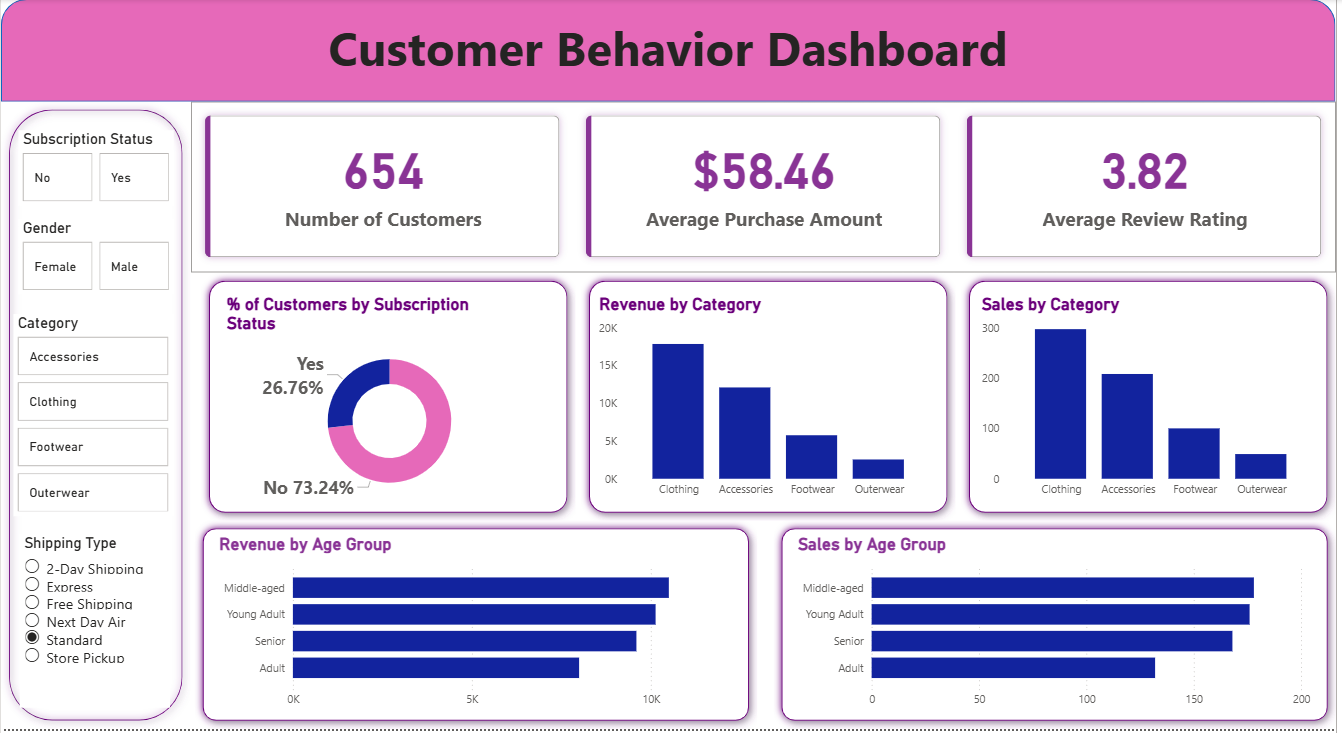

Layout of this report page (visuals, bound fields, positions):
{"tool":"powerbi","page":{"name":"Page 1","canvas":[1500,820],"ordinal":0},"visuals":[{"type":"cardVisual","fields":{"Data":["public customer.Number of Customers","public customer.Average Purchase Amount","public customer.Average Review Rating"]},"box":[212.9,115.3,1286.5,191.6],"z":2000},{"type":"shape","box":[218.3,585.6,631.7,234.2],"z":2500,"group":"g1"},{"type":"shape","box":[0,0,1499.4,115.3],"z":3000},{"type":"textbox","box":[0,12.4,1499.4,102.9],"z":4000},{"type":"shape","box":[225.4,307,420.5,278.6],"z":5000},{"type":"donutChart","title":"% of Customers by Subscription Status","fields":{"Category":["public customer.subscription_status"],"Y":["CountNonNull(public customer.customer_id)"]},"box":[248.4,331.8,376.2,237.8],"z":6000},{"type":"shape","box":[1078.9,307,420.5,278.6],"z":7000},{"type":"shape","box":[652.1,307,420.5,278.6],"z":8000},{"type":"clusteredColumnChart","title":"Revenue by Category","fields":{"Y":["Sum(public customer.purchase_amount)"],"Category":["public customer.category"]},"box":[667.2,331.8,385.1,237.8],"z":9000},{"type":"clusteredColumnChart","title":"Sales by Category","fields":{"Y":["CountNonNull(public customer.customer_id)"],"Category":["public customer.category"]},"box":[1096.6,331.8,385.1,237.8],"z":10000},{"type":"shape","box":[0,115.3,212.9,704.5],"z":11000},{"type":"advancedSlicerVisual","fields":{"Values":["public customer.subscription_status"]},"box":[19.5,147.6,174.1,85],"z":12000},{"type":"advancedSlicerVisual","fields":{"Values":["public customer.gender"]},"box":[19.5,246.5,174.1,85],"z":13000},{"type":"advancedSlicerVisual","fields":{"Values":["public customer.category"]},"box":[13.9,353.7,179.7,227],"z":14000},{"type":"listSlicer","fields":{"Values":["public customer.shipping_type"]},"box":[20.9,601.6,168.5,195],"z":15000},{"type":"shape","box":[867.7,585.6,631.7,234.2],"z":16000},{"type":"clusteredBarChart","title":"Sales by Age Group","fields":{"Y":["CountNonNull(public customer.customer_id)"],"Category":["public customer.age_group"]},"box":[890.8,601.5,585.6,204.1],"z":17000},{"type":"clusteredBarChart","title":"Revenue by Age Group","fields":{"Y":["Sum(public customer.purchase_amount)"],"Category":["public customer.age_group"]},"box":[241.4,601.6,585.6,204.1],"z":17500,"group":"g1"},{"type":"group","id":"g1","title":"Group 1","box":[218.3,585.6,631.7,234.2],"z":17501}]}

Visuals, with their boxes in screenshot pixels (x1, y1, x2, y2), scaled from the page's 1500x820 canvas onto the 1342x733 screenshot:
cardVisual - public customer.Number of Customers x public customer.Average Purchase Amount: <box>190,103,1341,274</box>
shape: <box>195,523,760,732</box>
shape: <box>0,0,1341,103</box>
textbox: <box>0,11,1341,103</box>
shape: <box>202,274,578,523</box>
"% of Customers by Subscription Status" donutChart: <box>222,297,559,509</box>
shape: <box>965,274,1341,523</box>
shape: <box>583,274,960,523</box>
"Revenue by Category" clusteredColumnChart: <box>597,297,941,509</box>
"Sales by Category" clusteredColumnChart: <box>981,297,1326,509</box>
shape: <box>0,103,190,732</box>
advancedSlicerVisual - public customer.subscription_status: <box>17,132,173,208</box>
advancedSlicerVisual - public customer.gender: <box>17,220,173,296</box>
advancedSlicerVisual - public customer.category: <box>12,316,173,519</box>
listSlicer - public customer.shipping_type: <box>19,538,169,712</box>
shape: <box>776,523,1341,732</box>
"Sales by Age Group" clusteredBarChart: <box>797,538,1321,720</box>
"Revenue by Age Group" clusteredBarChart: <box>216,538,740,720</box>
"Group 1" group: <box>195,523,760,732</box>
